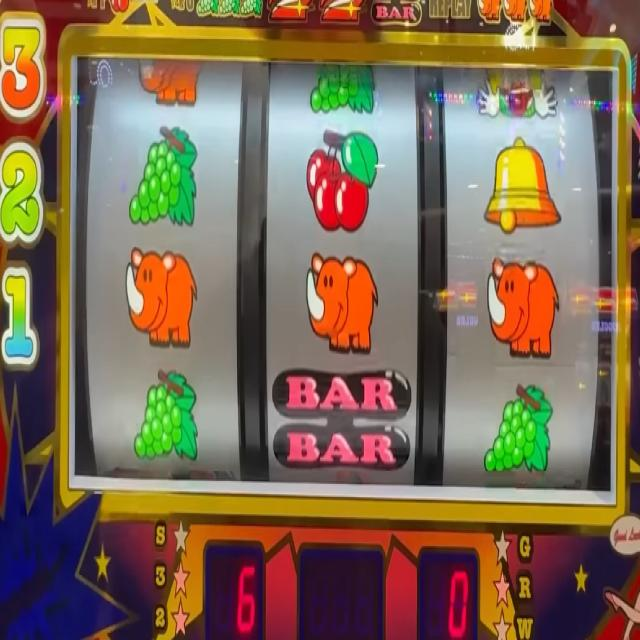bar: (271, 365, 412, 470), (371, 0, 423, 32)
cherry: (482, 134, 562, 237), (305, 126, 379, 234), (108, 0, 132, 15), (479, 178, 481, 178)
clown: (476, 66, 559, 127)
display: (70, 50, 617, 496)
elephant: (124, 243, 198, 356), (485, 254, 560, 362), (305, 248, 379, 356), (136, 51, 202, 109), (529, 0, 554, 25), (475, 1, 500, 24), (503, 2, 526, 26)
grape: (128, 120, 198, 228), (482, 380, 552, 478), (133, 368, 198, 466), (308, 62, 376, 116), (195, 0, 217, 19), (218, 1, 239, 20), (240, 0, 262, 18)
z: (318, 0, 366, 27), (266, 0, 316, 24)
